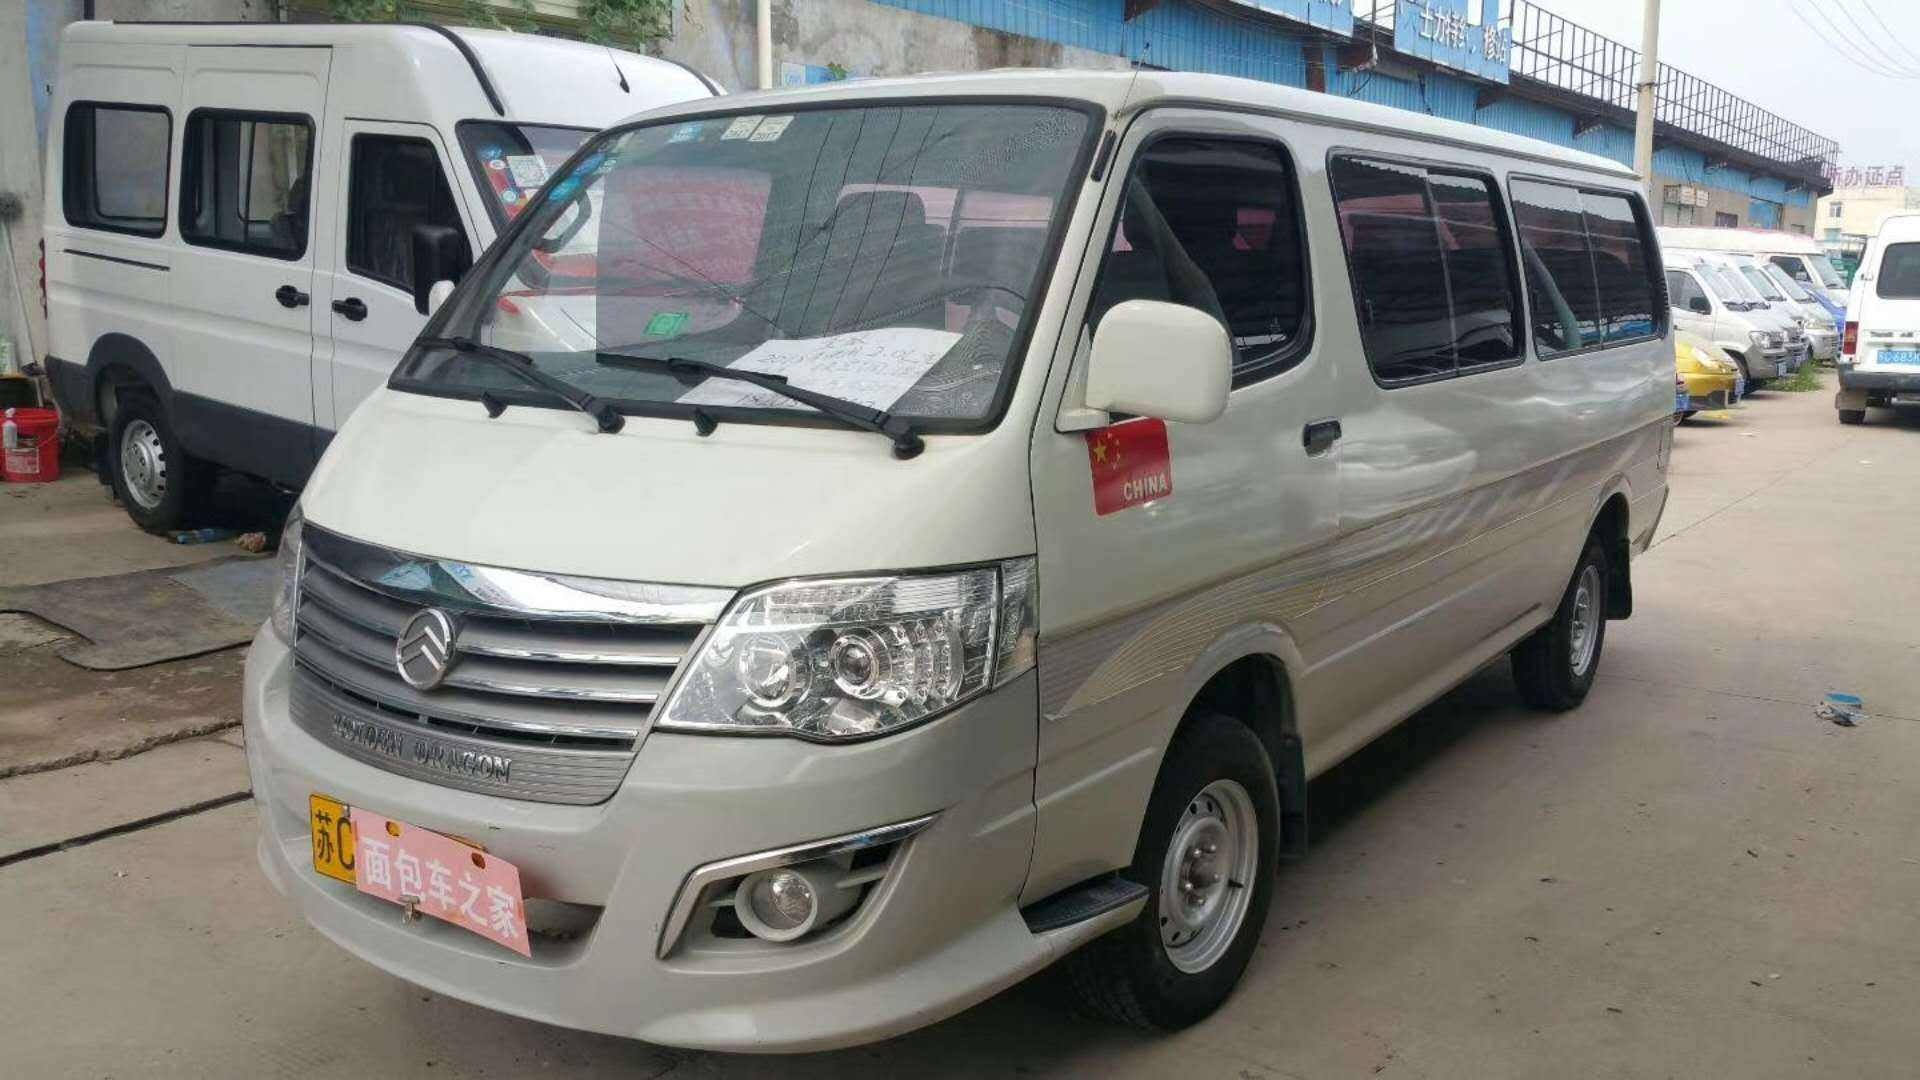SUV: (224, 91, 1687, 1038)
